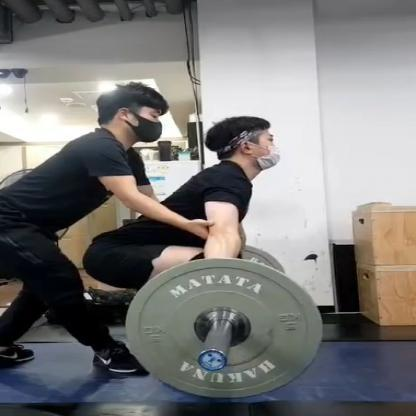barbell: (126, 258, 324, 402)
